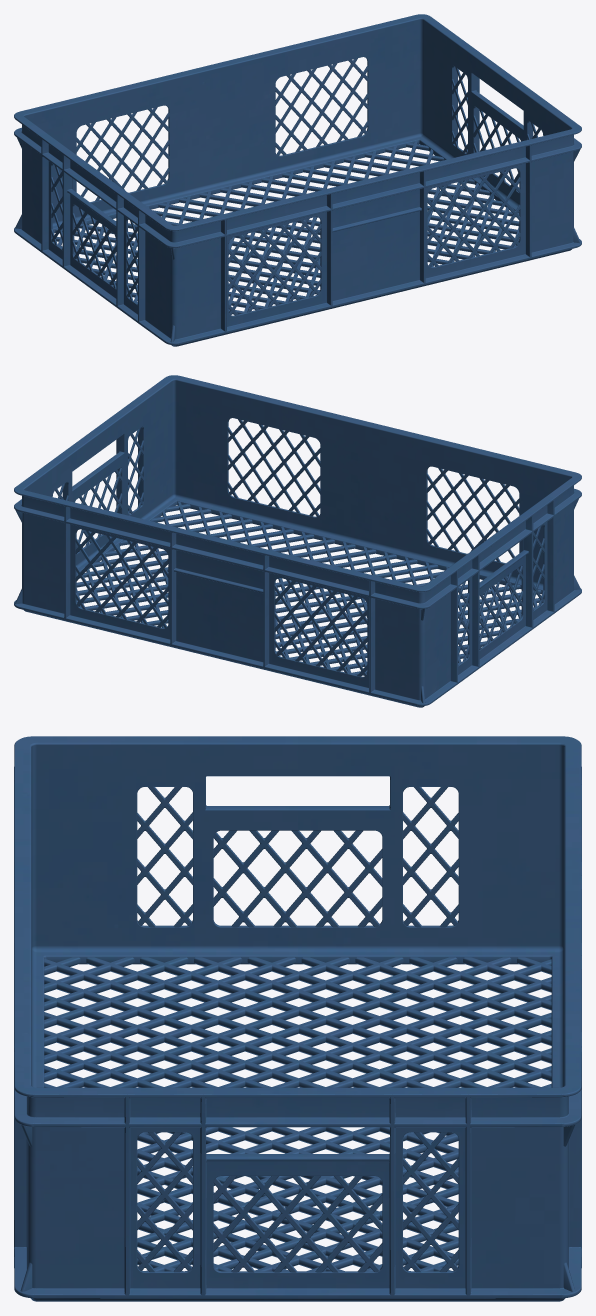
The model's file is crate_blue_a08.glb.
The picture shows the model from 3 angles, top to bottom: view 1: azimuth 30°, elevation 25°; view 2: azimuth 150°, elevation 25°; view 3: azimuth 270°, elevation 25°; orthographic projection. The views are drawn at different scales.
Visible parts, largest first — view 1: sm_crate_a08_mesh_00.001; view 2: sm_crate_a08_mesh_00.001; view 3: sm_crate_a08_mesh_00.001.
Part boxes in pixels (<box>): sm_crate_a08_mesh_00.001: <box>14,14,581,346</box>; sm_crate_a08_mesh_00.001: <box>14,375,581,707</box>; sm_crate_a08_mesh_00.001: <box>14,736,581,1301</box>.
Size of the model in its own units: 0.6051 by 0.1703 by 0.4051.
1 material, 1 textured.
